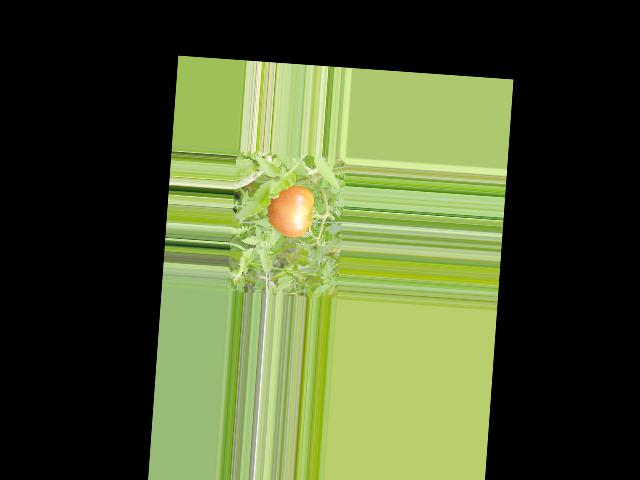tomato: (266, 184, 315, 238)
